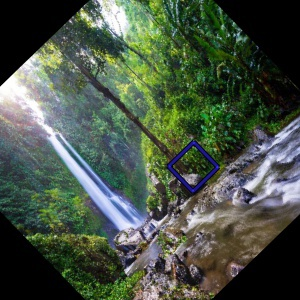square: (165, 137, 221, 195)
